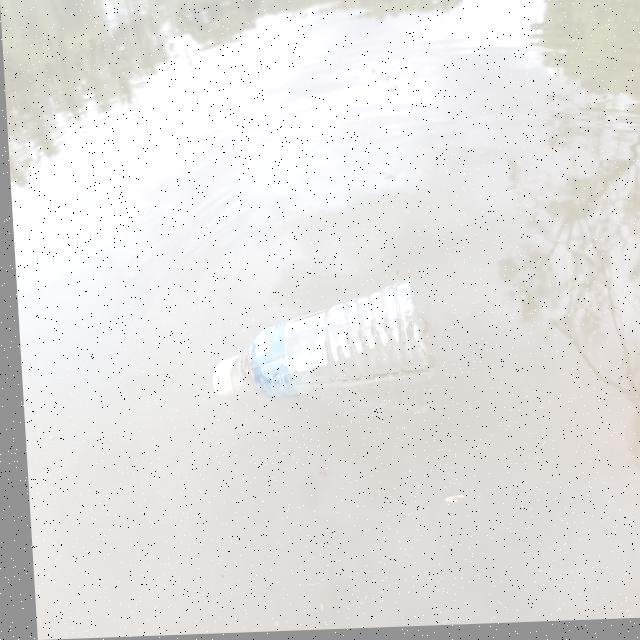waterbottle: (186, 278, 447, 415)
